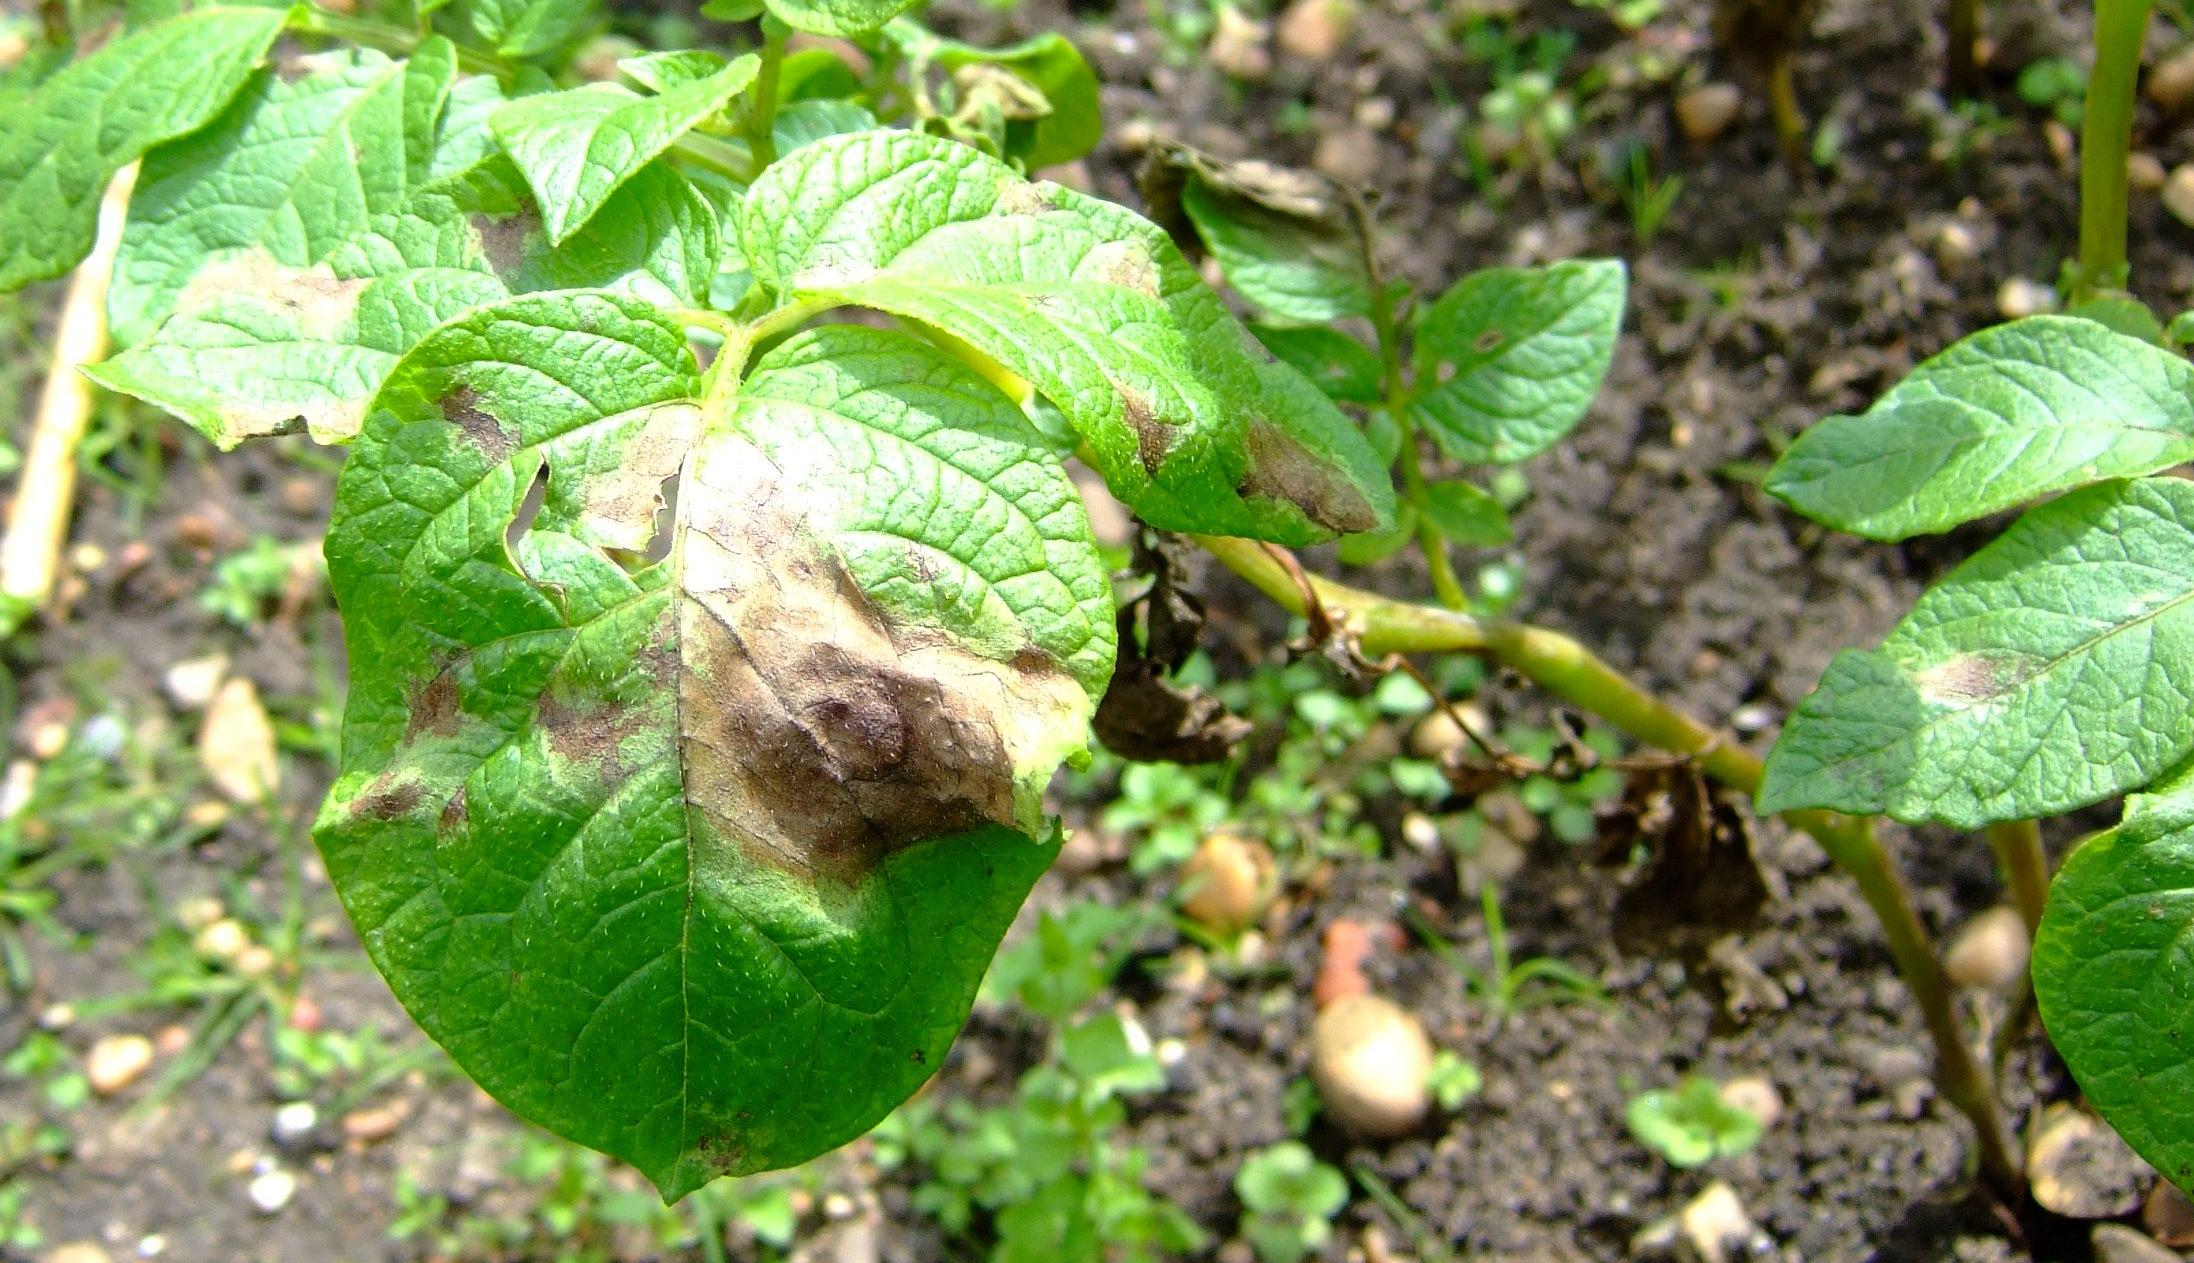Tomato leaf late blight: (271, 298, 1117, 1154)
